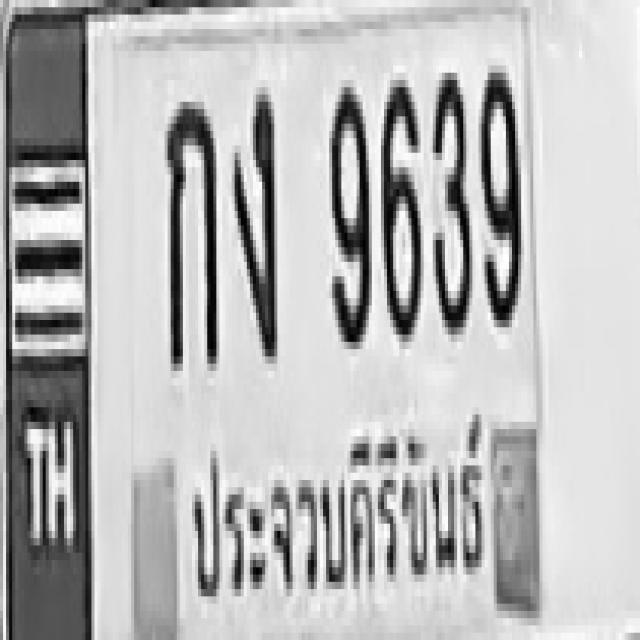0: (378, 73, 420, 334)
10GorGai: (164, 94, 217, 363)
16NgorNgu: (232, 88, 274, 356)
3: (430, 65, 469, 328)
6: (378, 73, 420, 334)
9: (328, 80, 370, 342), (479, 65, 518, 320)
PrachuapKhiriKhan: (175, 397, 492, 603)
